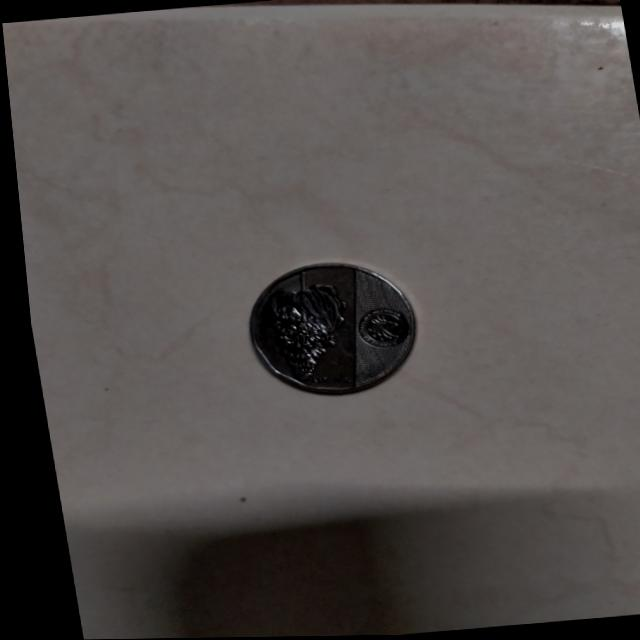10_New_Back: (247, 276, 405, 385)
